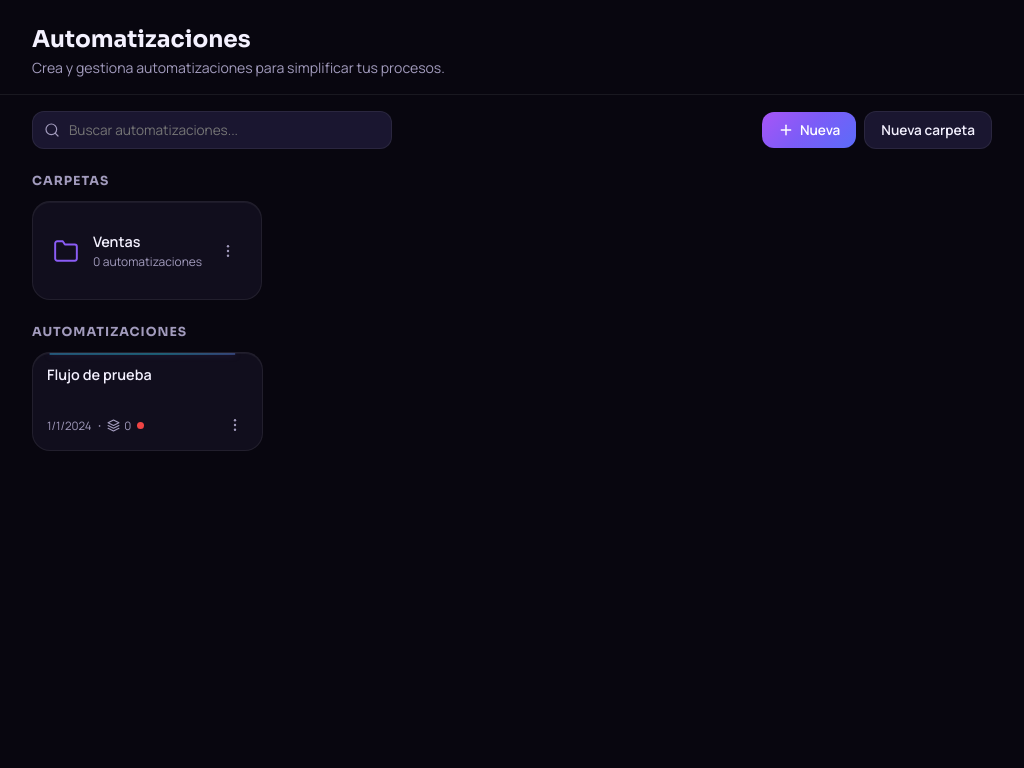
Test: Renombrar cambia el nombre de la carpeta › abre el diálogo con el nombre actual y lo guarda
This screenshot has width=1024, height=768.
Expected: the text "Ventas" is shown, [93,232,140,251]
Click the button named "Acciones para Ventas" at (228, 251), box [214,238,240,264]
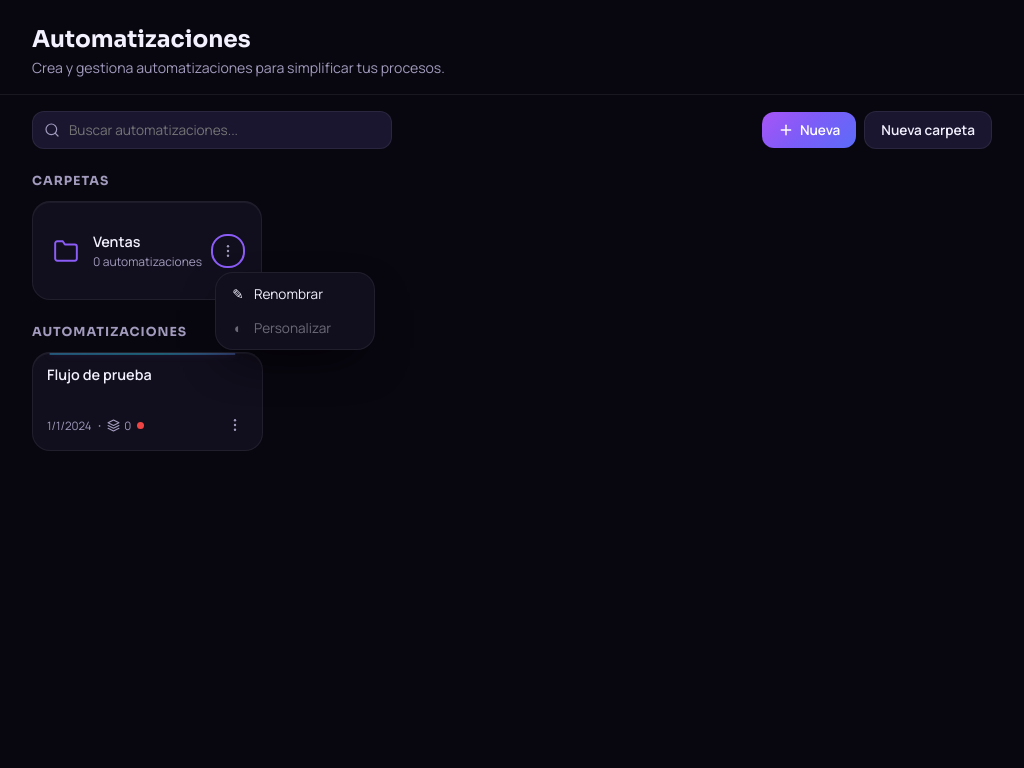
Click the menu item "✎ Renombrar" at (295, 294), box [216,277,374,311]
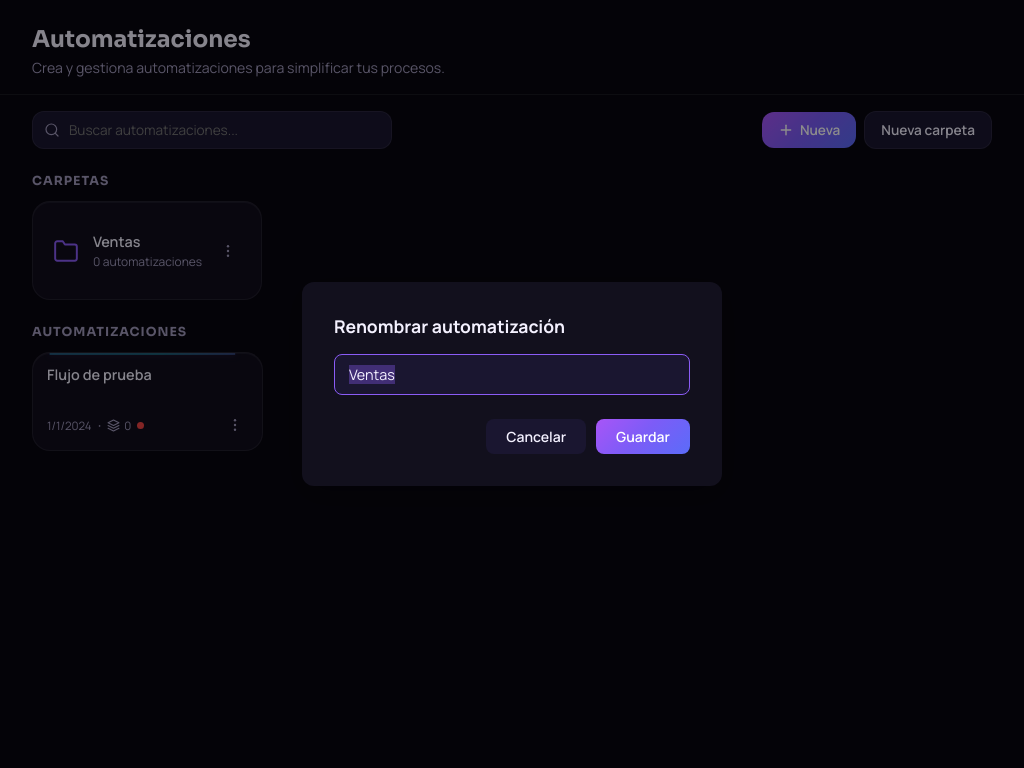
Replace the text in the field showing "Ventas" with "Clientes VIP" at (512, 374), box [334,354,690,395]
Then press Enter
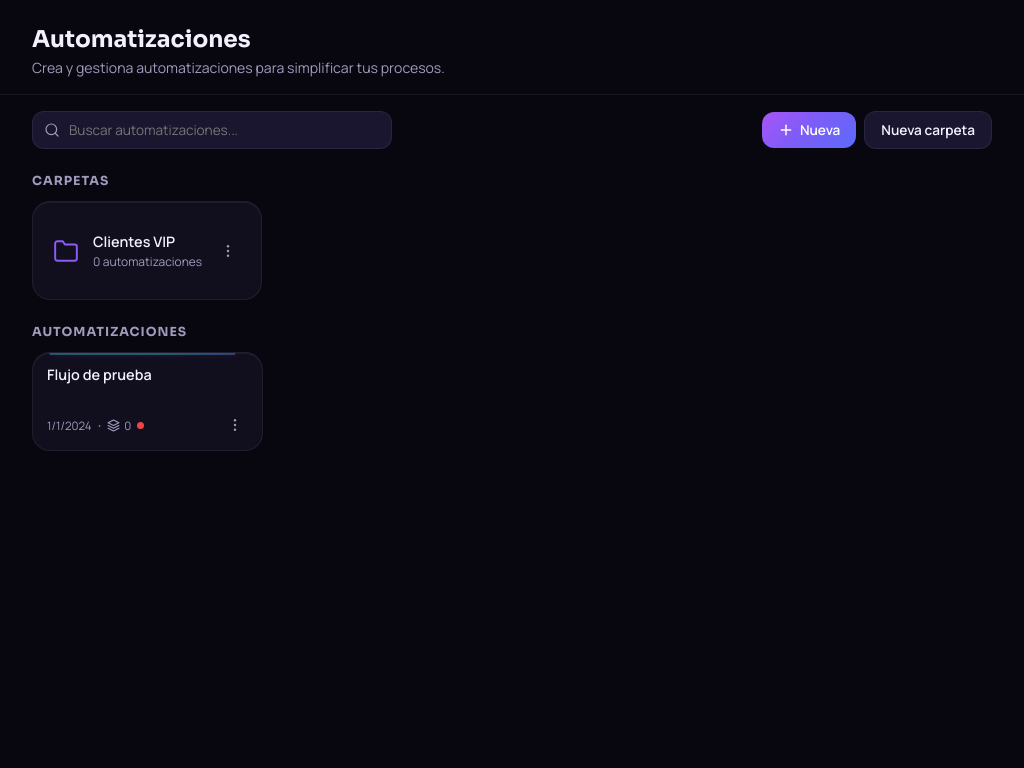
Expected: the text "Clientes VIP" is shown, [93,232,175,251]
Expected: the button "Ventas" is gone
